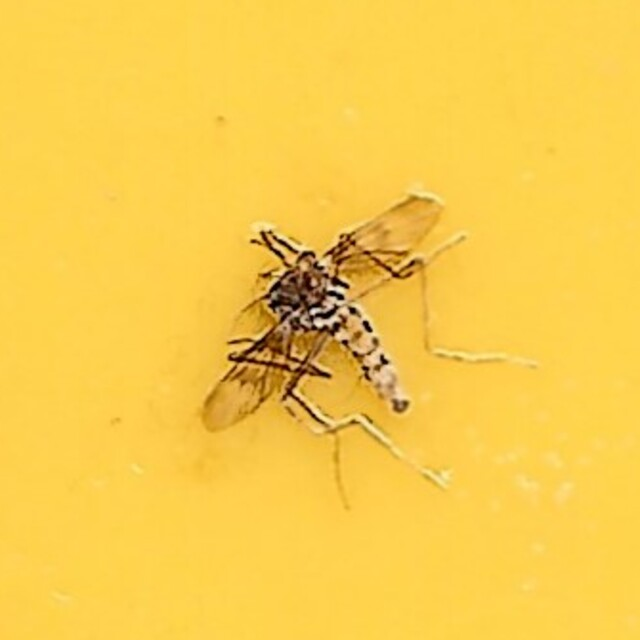Nematocera: (191, 190, 449, 450)
